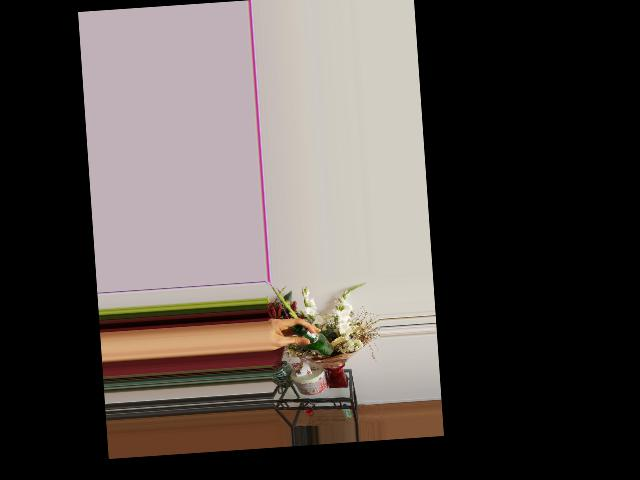beer: (292, 322, 333, 358)
